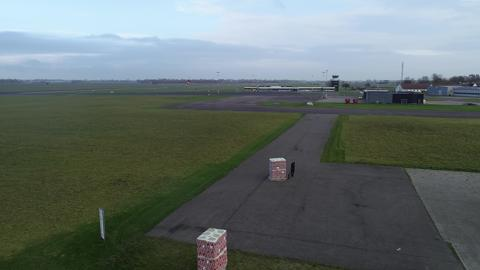RockwoolPallet: (267, 156, 286, 179)
